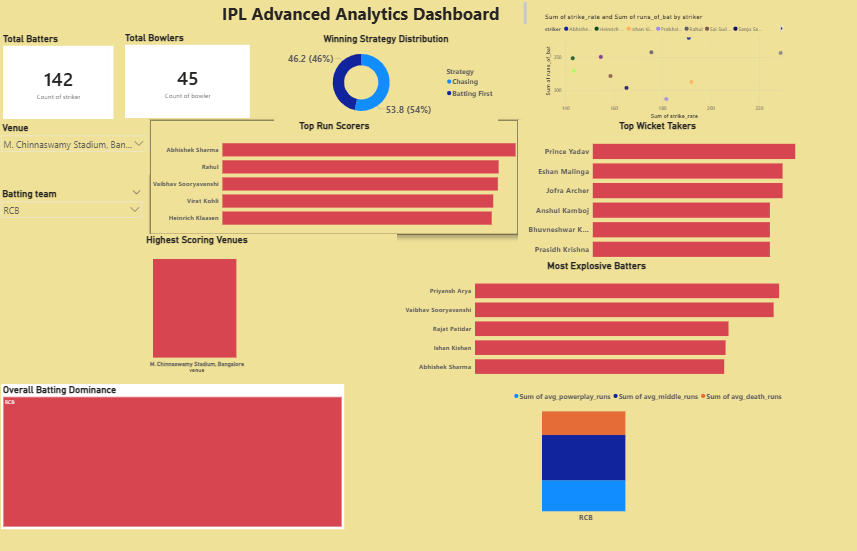

The dashboard page shown, as its layout file describes it:
{"tool":"powerbi","page":{"name":"Page 1","canvas":[3000,2000],"ordinal":0},"visuals":[{"type":"textbox","box":[498,0,832,66],"z":2000},{"type":"cardVisual","title":"Total Batters","fields":{"Data":["CountNonNull(final_batter_analysis.striker)"]},"box":[10,82,286,220],"z":3000},{"type":"cardVisual","title":"Total Bowlers","fields":{"Data":["CountNonNull(bowling_analysis.bowler)"]},"box":[316,80,322,220],"z":4000},{"type":"clusteredBarChart","title":"Top Run Scorers","fields":{"Category":["final_batter_analysis.striker"],"Y":["Sum(final_batter_analysis.runs_of_bat)"]},"box":[382,300,920,286],"z":5000},{"type":"clusteredBarChart","title":"Top Wicket Takers","fields":{"Category":["bowling_analysis.bowler"],"Y":["Sum(bowling_analysis.wickets)"]},"box":[1302,300,698,368],"z":6000},{"type":"clusteredColumnChart","title":"Highest Scoring Venues","fields":{"Category":["venue_average_scores.venue"],"Y":["Sum(venue_average_scores.avg_runs)"]},"box":[0,586,1000,352],"z":7000},{"type":"donutChart","title":"Winning Strategy Distribution","fields":{"Category":["match_strategy_analysis.Strategy"],"Y":["Sum(match_strategy_analysis.Win Percentage)"]},"box":[692,82,560,220],"z":8000},{"type":"columnChart","fields":{"Category":["phase_analysis.batting_team"],"Y":["Sum(phase_analysis.avg_powerplay_runs)","Sum(phase_analysis.avg_middle_runs)","Sum(phase_analysis.avg_death_runs)"]},"box":[972.5,967.5,1000,350],"z":9000},{"type":"scatterChart","fields":{"X":["Sum(final_batter_analysis.strike_rate)"],"Y":["Sum(final_batter_analysis.runs_of_bat)"],"Series":["final_batter_analysis.striker"]},"box":[1366,32,616,270],"z":10000},{"type":"slicer","fields":{"Values":["phase_analysis.batting_team"]},"box":[0,466,372,120],"z":11000},{"type":"slicer","fields":{"Values":["venue_average_scores.venue"]},"box":[0,300,382,136],"z":12000},{"type":"clusteredBarChart","title":"Most Explosive Batters","fields":{"Category":["final_batter_analysis.striker"],"Y":["Sum(final_batter_analysis.strike_rate)"]},"box":[1016,650,968,310],"z":13000},{"type":"treemap","title":"Overall Batting Dominance","fields":{"Group":["phase_analysis.batting_team"],"Values":["Sum(phase_analysis.total_phase_runs)"]},"box":[10,960,857.5,362.5],"z":14000}]}

Visuals, with their boxes on the page's 3000x2000 design canvas (x1, y1, x2, y2). These are canvas units, not pixel positions in the 857x551 screenshot, which may show the page scaled, cropped or inside an application window:
textbox: {"left": 498, "top": 0, "right": 1330, "bottom": 66}
"Total Batters" cardVisual: {"left": 10, "top": 82, "right": 296, "bottom": 302}
"Total Bowlers" cardVisual: {"left": 316, "top": 80, "right": 638, "bottom": 300}
"Top Run Scorers" clusteredBarChart: {"left": 382, "top": 300, "right": 1302, "bottom": 586}
"Top Wicket Takers" clusteredBarChart: {"left": 1302, "top": 300, "right": 2000, "bottom": 668}
"Highest Scoring Venues" clusteredColumnChart: {"left": 0, "top": 586, "right": 1000, "bottom": 938}
"Winning Strategy Distribution" donutChart: {"left": 692, "top": 82, "right": 1252, "bottom": 302}
columnChart - phase_analysis.batting_team x Sum(phase_analysis.avg_powerplay_runs): {"left": 972, "top": 968, "right": 1972, "bottom": 1318}
scatterChart - Sum(final_batter_analysis.strike_rate) x Sum(final_batter_analysis.runs_of_bat): {"left": 1366, "top": 32, "right": 1982, "bottom": 302}
slicer - phase_analysis.batting_team: {"left": 0, "top": 466, "right": 372, "bottom": 586}
slicer - venue_average_scores.venue: {"left": 0, "top": 300, "right": 382, "bottom": 436}
"Most Explosive Batters" clusteredBarChart: {"left": 1016, "top": 650, "right": 1984, "bottom": 960}
"Overall Batting Dominance" treemap: {"left": 10, "top": 960, "right": 868, "bottom": 1322}
